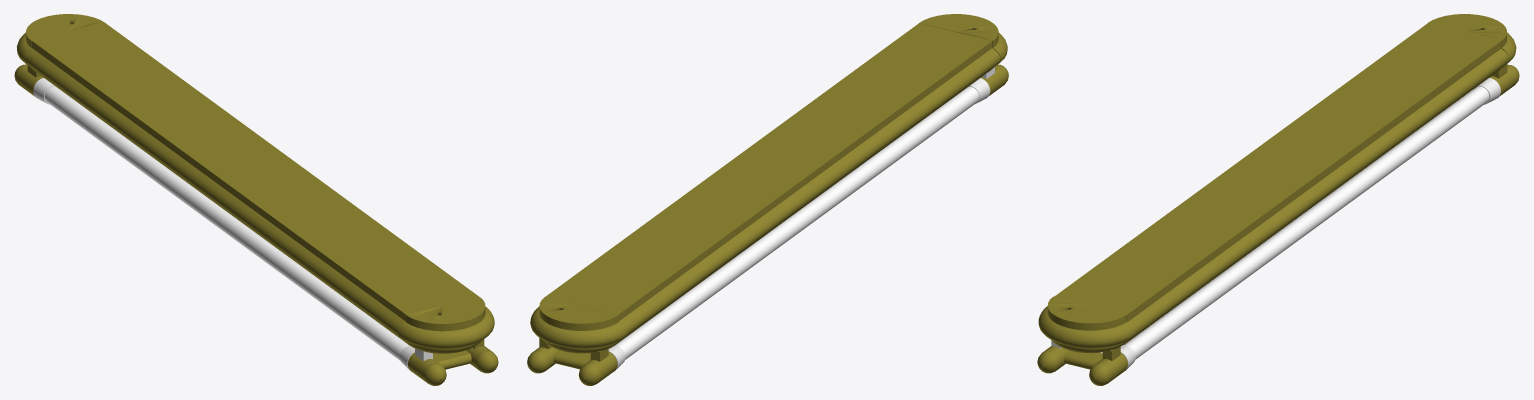
The model's file is light tube.fbx.
3 renders of one model, left to right at view 1: azimuth 30°, elevation 25°; view 2: azimuth 150°, elevation 25°; view 3: azimuth 330°, elevation 25°, orthographic.
Visible parts, largest first — view 1: Loft01, Cylinder01.Cylinder04, Rectangle0.Rectangle1, Rectangle0, Rectangle5, Rectangle2, Rectangle6, Rectangle4; view 2: Loft01, Cylinder01.Cylinder04, Rectangle0, Rectangle0.Rectangle1, Rectangle4, Rectangle3, Rectangle6.Rectangle7, Rectangle5; view 3: Loft01, Cylinder01, Rectangle0.Rectangle1, Rectangle0, Rectangle2, Rectangle5, Rectangle6, Rectangle3.
Part boxes in pixels (x1,y1,x2,y2): Loft01: (23,22,478,343); Cylinder01.Cylinder04: (44,86,409,360); Rectangle0.Rectangle1: (398,297,494,353); Rectangle0: (17,14,103,70); Rectangle5: (407,352,446,385); Rectangle2: (466,346,498,373); Rectangle6: (433,350,471,369); Rectangle4: (14,64,43,96); Loft01: (544,23,1000,342); Cylinder01.Cylinder04: (614,86,979,359); Rectangle0: (530,297,626,353); Rectangle0.Rectangle1: (919,14,1007,70); Rectangle4: (578,352,617,385); Rectangle3: (527,347,558,373); Rectangle6.Rectangle7: (554,350,590,369); Rectangle5: (981,64,1008,95); Loft01: (1054,22,1508,344); Cylinder01: (1123,86,1489,359); Rectangle0.Rectangle1: (1038,296,1134,353); Rectangle0: (1428,14,1516,67); Rectangle2: (1089,353,1127,385); Rectangle5: (1037,346,1069,373); Rectangle6: (1064,350,1102,369); Rectangle3: (1489,64,1519,96).
Size of the model in its own units: 83.41 by 53.97 by 683.
